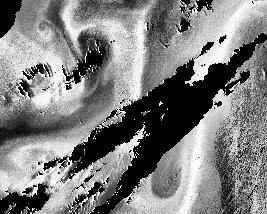CE: (33, 16, 51, 35)
